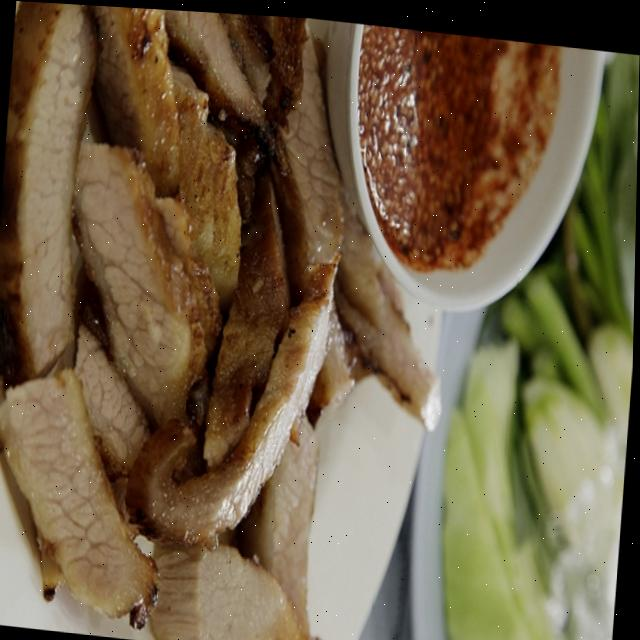猪肉菜式: (0, 19, 392, 625)
